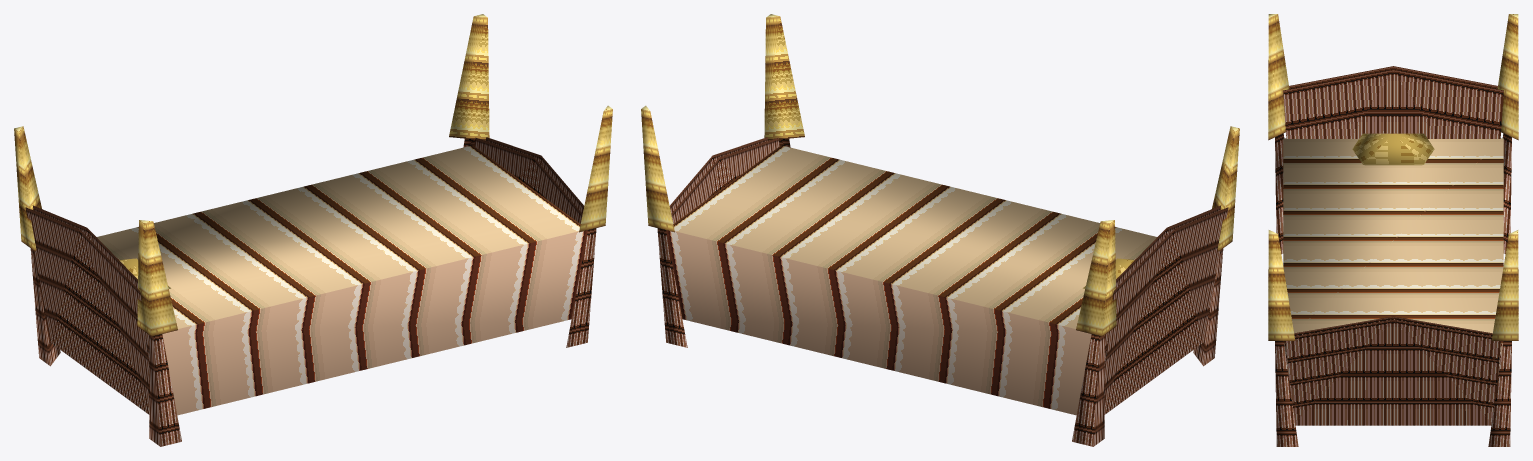
File: 3179IMFY06_01.gltf
The picture shows the model from 3 angles, left to right: view 1: azimuth 30°, elevation 25°; view 2: azimuth 150°, elevation 25°; view 3: azimuth 270°, elevation 25°; orthographic projection. The views are drawn at different scales.
Visible parts, largest first — view 1: 3179IMFY06_01; view 2: 3179IMFY06_01; view 3: 3179IMFY06_01.
Part boxes in pixels (left/top/right/bottom): 3179IMFY06_01: left=14, top=14, right=612, bottom=446; 3179IMFY06_01: left=641, top=14, right=1239, bottom=446; 3179IMFY06_01: left=1268, top=14, right=1518, bottom=446.
Bounding box in the file's own units: 1.96 × 0.9241 × 0.9409.
Materials: 4 (4 with a texture image).
